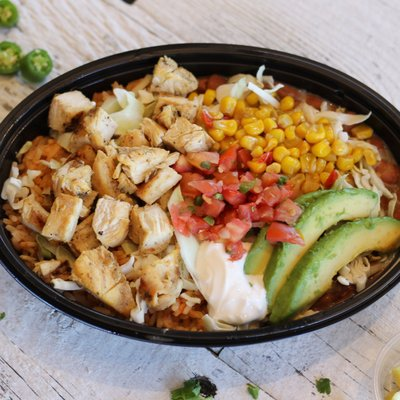sushi: (0, 52, 393, 350), (372, 331, 400, 400)
